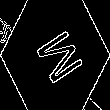M_SW: (26, 23, 84, 87)
